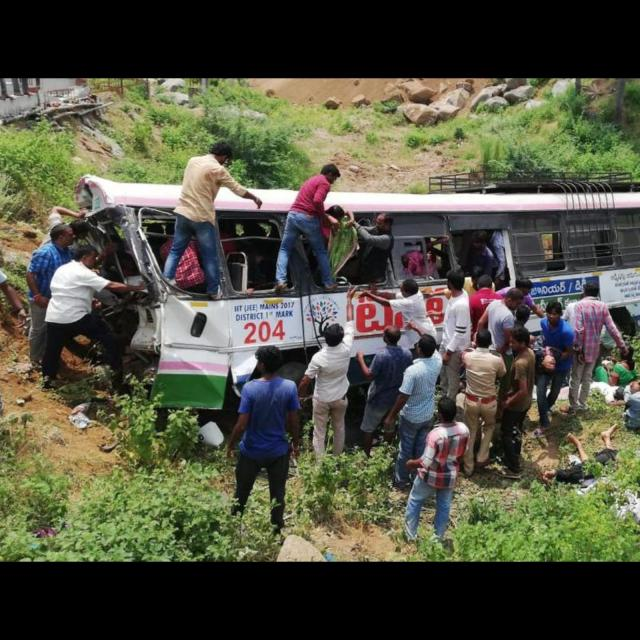accident: (75, 171, 640, 409)
